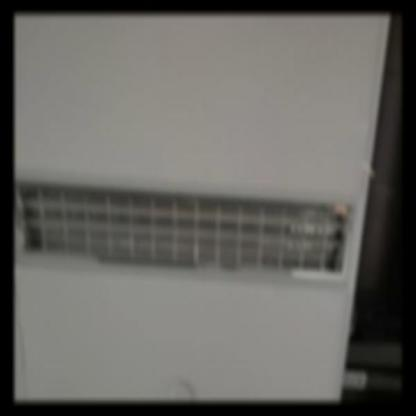light_off: (18, 104, 360, 305)
